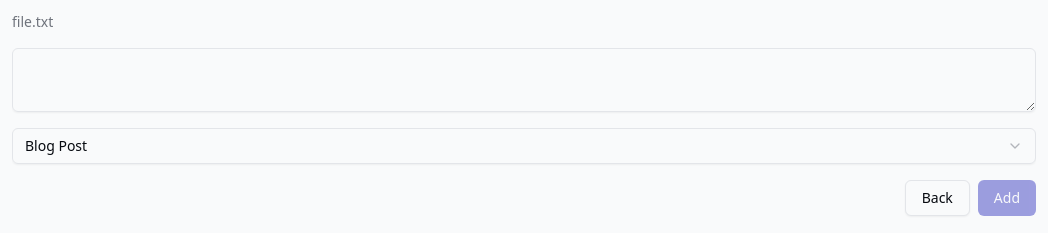
Test: TextPreview › disables Add when content is empty
Expected: the button "Add" is disabled, [978,180,1036,216]
Type "x" into the text box at (524, 80), box [12,48,1036,112]
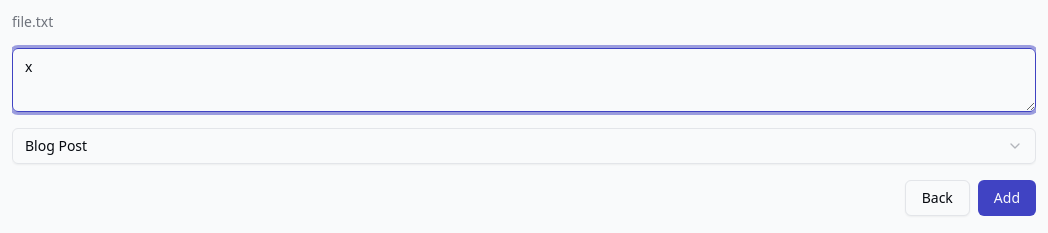
Result: the button "Add" is enabled at [978,180,1036,216]
